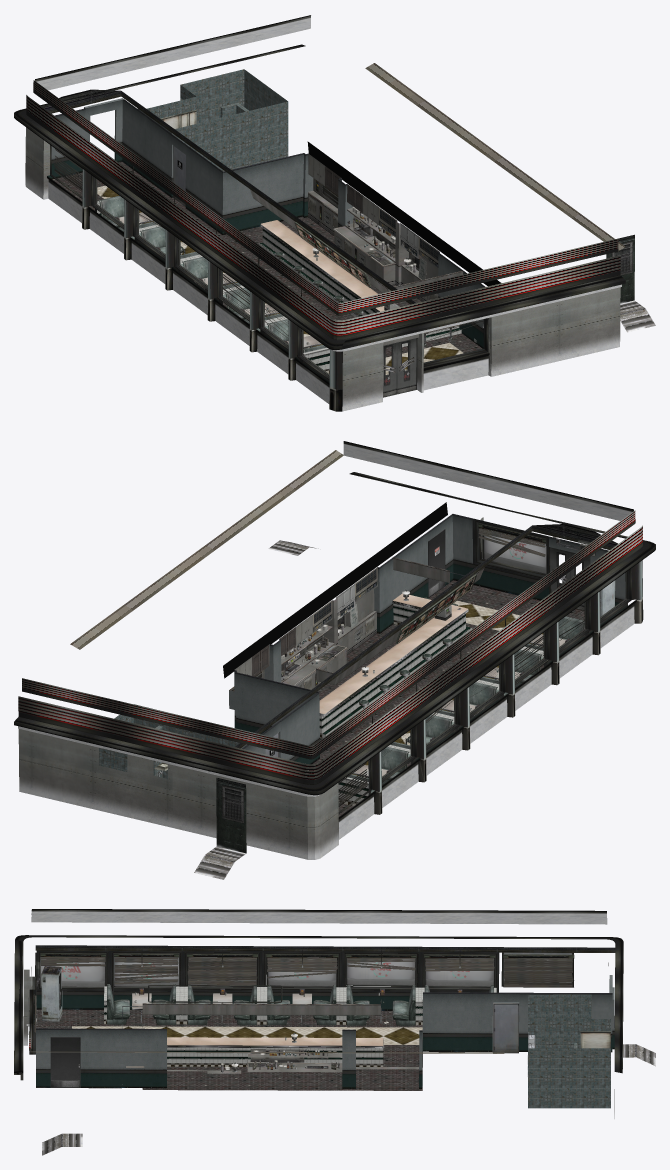
Rendered from modern_diner.glb.
The picture shows the model from 3 angles, top to bottom: view 1: azimuth 30°, elevation 25°; view 2: azimuth 150°, elevation 25°; view 3: azimuth 270°, elevation 25°; orthographic projection. The views are drawn at different scales.
Parts seen in each view (by area): view 1: Material3.017, Material3.031, Material3.036, Material3.008, Material3.051, Material3.003, Material3.043, Material3.042, Material3.044, Material3.004, Material3.021, Material3.052 (+10 smaller); view 2: Material3.017, Material3.036, Material3.031, Material3.003, Material3.043, Material3.004, Material3.051, Material3.042, Material3.040, Material3.044, Material3.050, Material3.021 (+11 smaller); view 3: Material3.003, Material3.031, Material3.017, Material3.042, Material3.008, Material3.005, Material3.004, Material3.043, Material3.052, Material3.046, Material3.021, Material3.032 (+13 smaller).
Part boxes in pixels (x1,y1,x2,y2): Material3.017: [14, 15, 625, 403]; Material3.031: [47, 98, 489, 382]; Material3.036: [25, 127, 620, 411]; Material3.008: [137, 69, 288, 171]; Material3.051: [82, 169, 342, 411]; Material3.003: [54, 149, 485, 397]; Material3.043: [250, 189, 463, 298]; Material3.042: [52, 162, 482, 373]; Material3.044: [365, 63, 625, 251]; Material3.004: [97, 201, 461, 373]; Material3.021: [98, 195, 326, 354]; Material3.052: [43, 89, 416, 304]; Material3.017: [14, 441, 655, 839]; Material3.036: [18, 517, 556, 859]; Material3.031: [229, 514, 627, 764]; Material3.003: [338, 518, 629, 806]; Material3.043: [281, 543, 594, 685]; Material3.004: [319, 597, 543, 806]; Material3.051: [372, 560, 643, 814]; Material3.042: [312, 580, 584, 816]; Material3.040: [194, 540, 318, 879]; Material3.044: [70, 450, 343, 649]; Material3.050: [223, 502, 447, 678]; Material3.021: [346, 616, 584, 793]; Material3.003: [32, 950, 574, 1054]; Material3.031: [36, 975, 614, 1088]; Material3.017: [14, 909, 623, 1080]; Material3.042: [36, 1009, 464, 1090]; Material3.008: [528, 994, 610, 1108]; Material3.005: [28, 952, 573, 1037]; Material3.004: [104, 986, 496, 1084]; Material3.043: [40, 963, 418, 1073]; Material3.052: [35, 945, 615, 979]; Material3.046: [72, 1026, 422, 1045]; Material3.021: [107, 984, 493, 1025]; Material3.032: [126, 1037, 383, 1067].
Bounding box in the file's own units: 0.2045 × 0.0722 × 0.3576.
52 materials, 52 textured.
